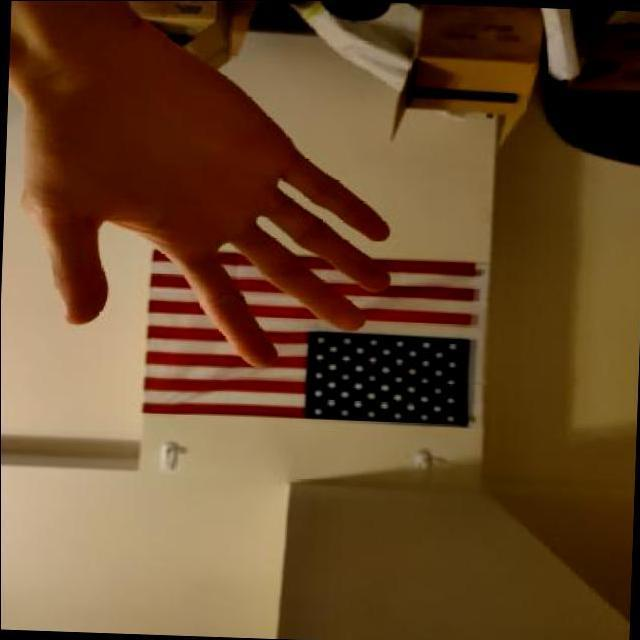hand: (0, 0, 416, 386)
